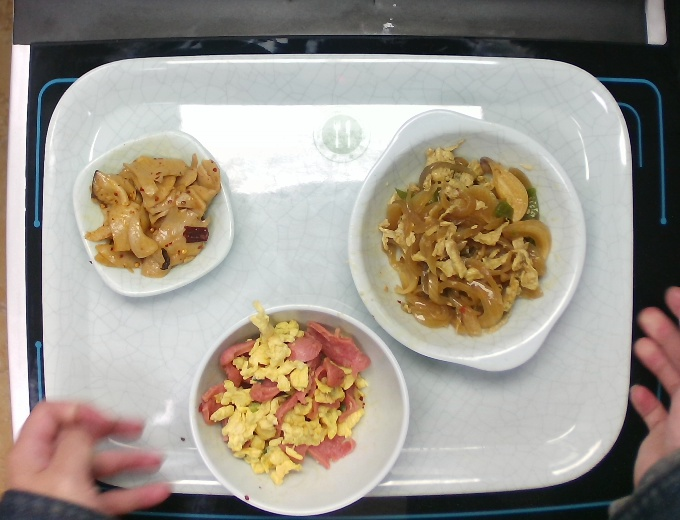JYsf-Fan_Wan: (182, 298, 423, 520)
JYsf-Shuang_Er_Wan: (343, 100, 592, 379)
JYsf-Si_Fang_Die: (71, 128, 245, 307)
